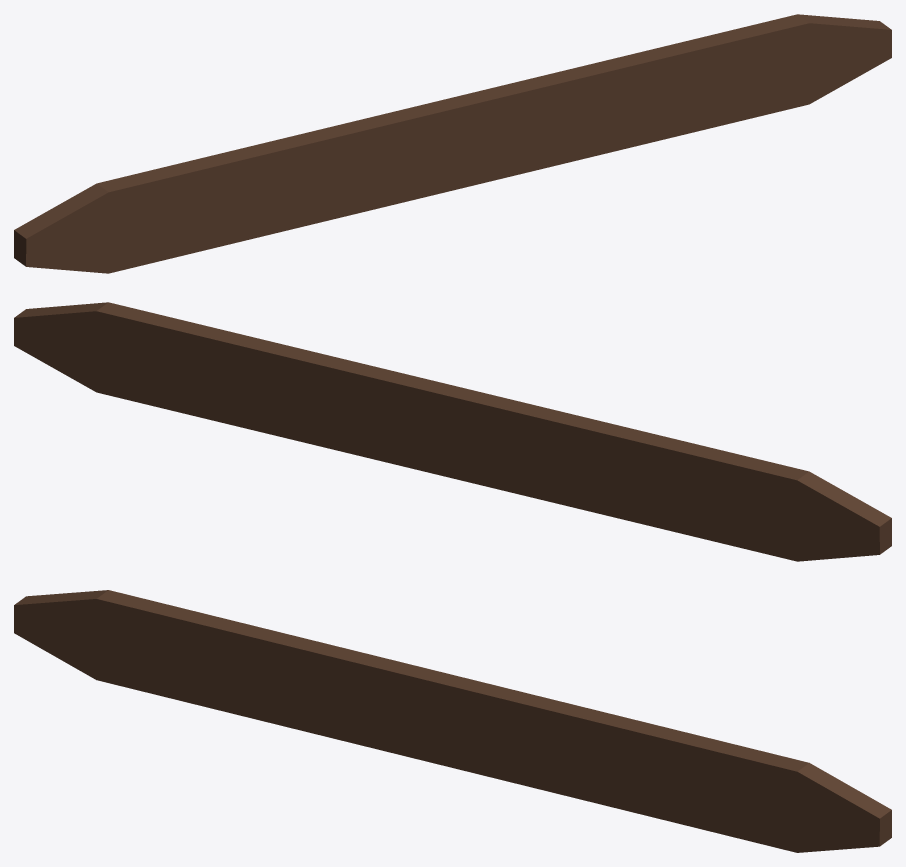
File: Mesh_Propeller.fbx
3 renders of one model, top to bottom at view 1: azimuth 30°, elevation 25°; view 2: azimuth 150°, elevation 25°; view 3: azimuth 330°, elevation 25°, orthographic.
Visible parts, largest first — view 1: Cube.000; view 2: Cube.000; view 3: Cube.000.
Boxes of the visible parts, left/top/right/bottom form: Cube.000: left=14, top=14, right=891, bottom=273; Cube.000: left=14, top=302, right=891, bottom=561; Cube.000: left=14, top=590, right=891, bottom=852.
Bounding box in the file's own units: 169 × 15.48 × 4.1.
